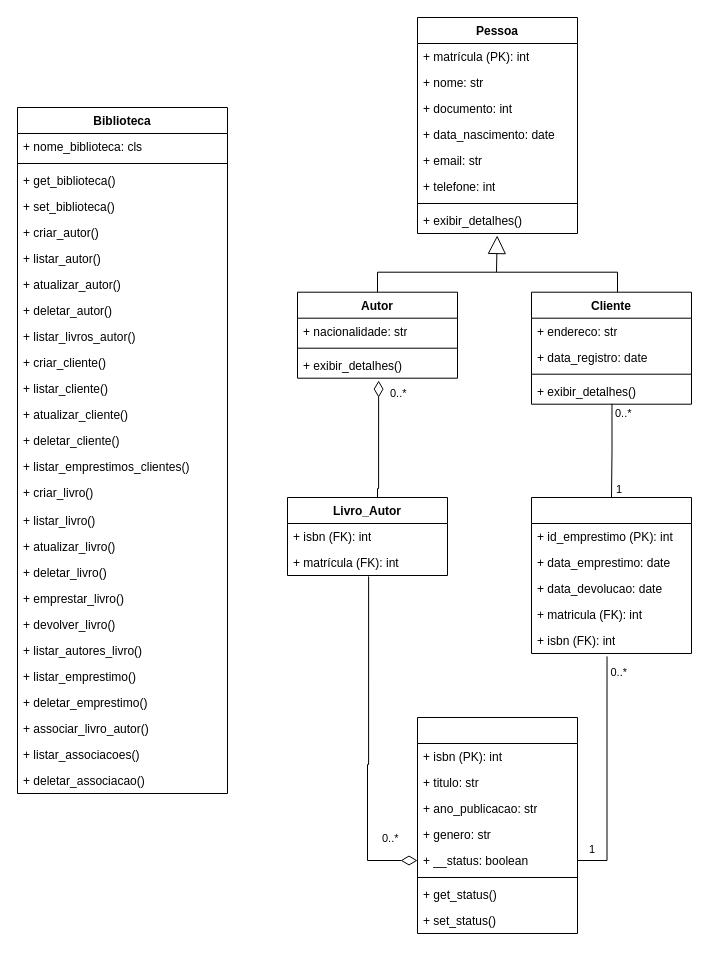
Some shapes in this 709 by 954 pixel diagram are drawn without their labels. The shapes that lost their labels are listed below. From the top down, each one's box as (x1, y1, x2, y2) in pixels, then its label:
(530, 496, 692, 654): Empréstimo
(416, 716, 578, 934): Livro
